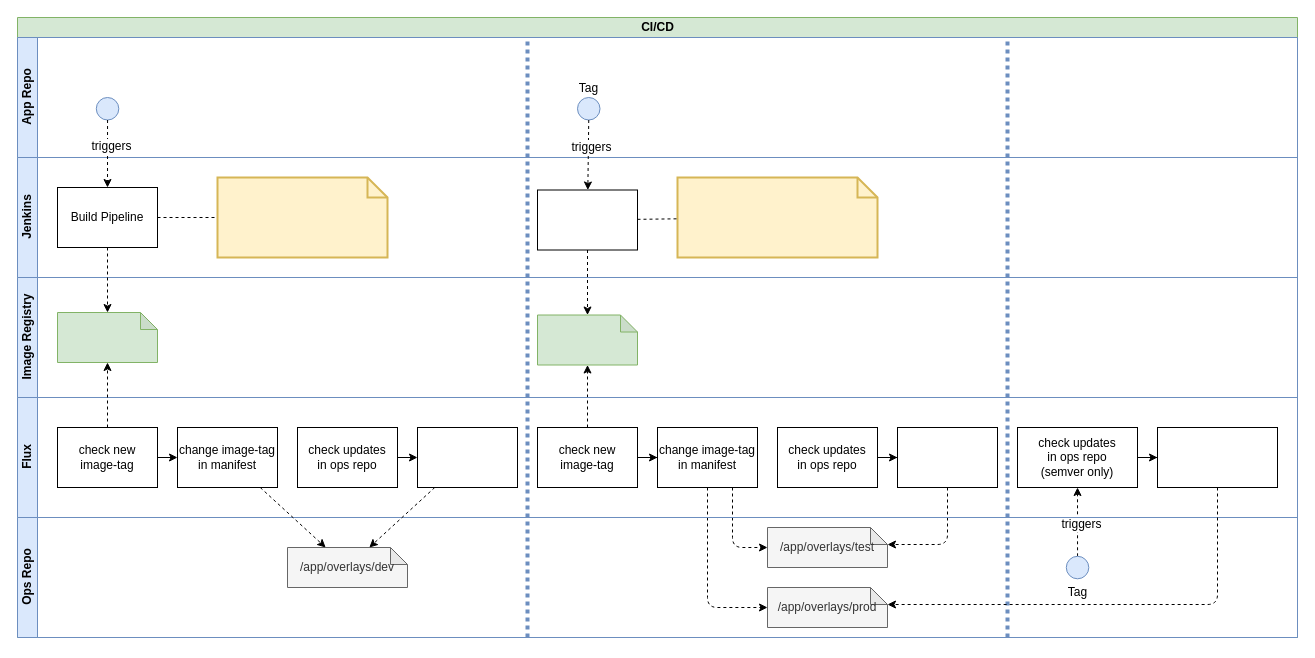
Some shapes in this 1315 by 658 pixel diagram are drawn without their labels. The shapes that lost their labels are listed below. From the top down, each one's centre as x and y in pixels, then its label:
[107,108]: Commit
[302,217]: - build app - test app - build image - tag image " app:<commit-id>" - push image
[587,219]: Tag Pipeline
[777,217]: - pull image "app:<commit-id>" - tag image "app:<tag>" - push image
[107,337]: app:<commit-id>
[587,339]: app:<tag>
[467,457]: deploy to dev
[947,457]: deploy to test
[1217,457]: deploy to prod
